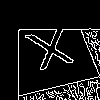X: (25, 26, 81, 80)
